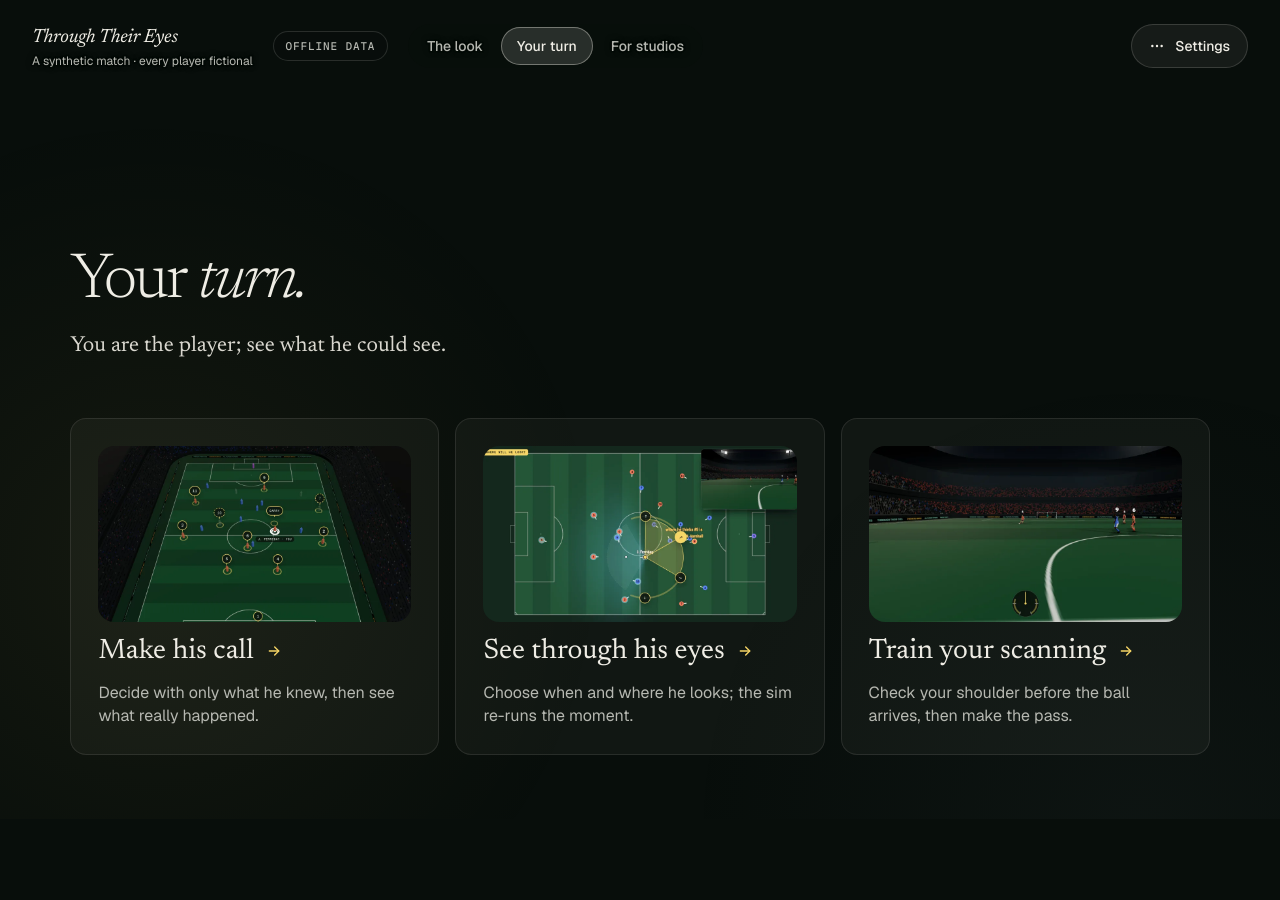
Test: Your call: opening › in App it takes the page's place and hides the moment until closed, back on Your turn
The image size is (1280, 900).
Expected: the element with class "door-turn" is shown, [70, 252, 1210, 755]
Step 1. Click the button with id "turn-call" → [255, 586], box [70, 418, 440, 755]
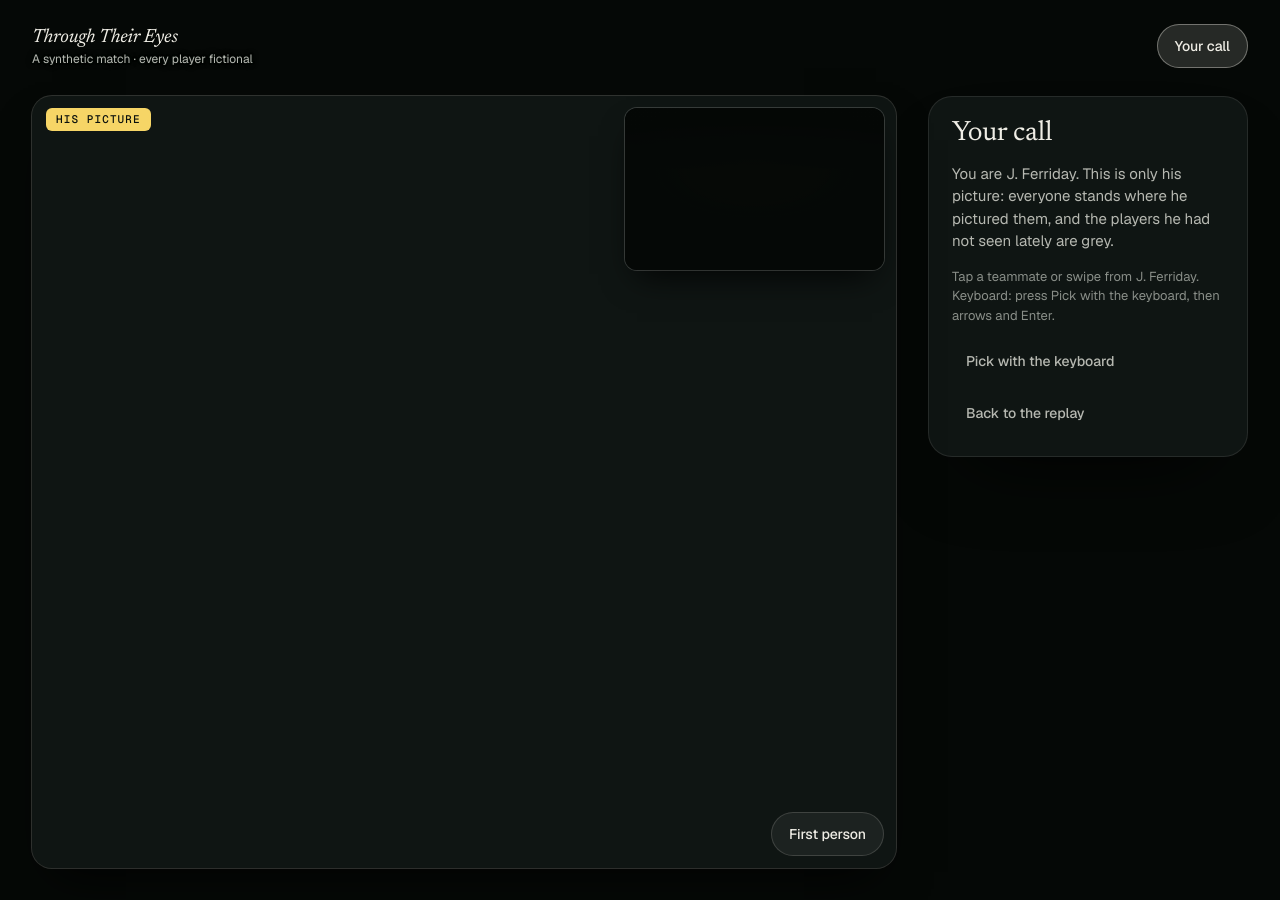
Now the element with class "door-turn" is gone
Now the button with class "moment" is gone
Now the element with class "yc-card" is shown, box [928, 96, 1248, 457]
Step 2. Click the button "Back to the replay" → [1025, 413], box [952, 391, 1098, 435]
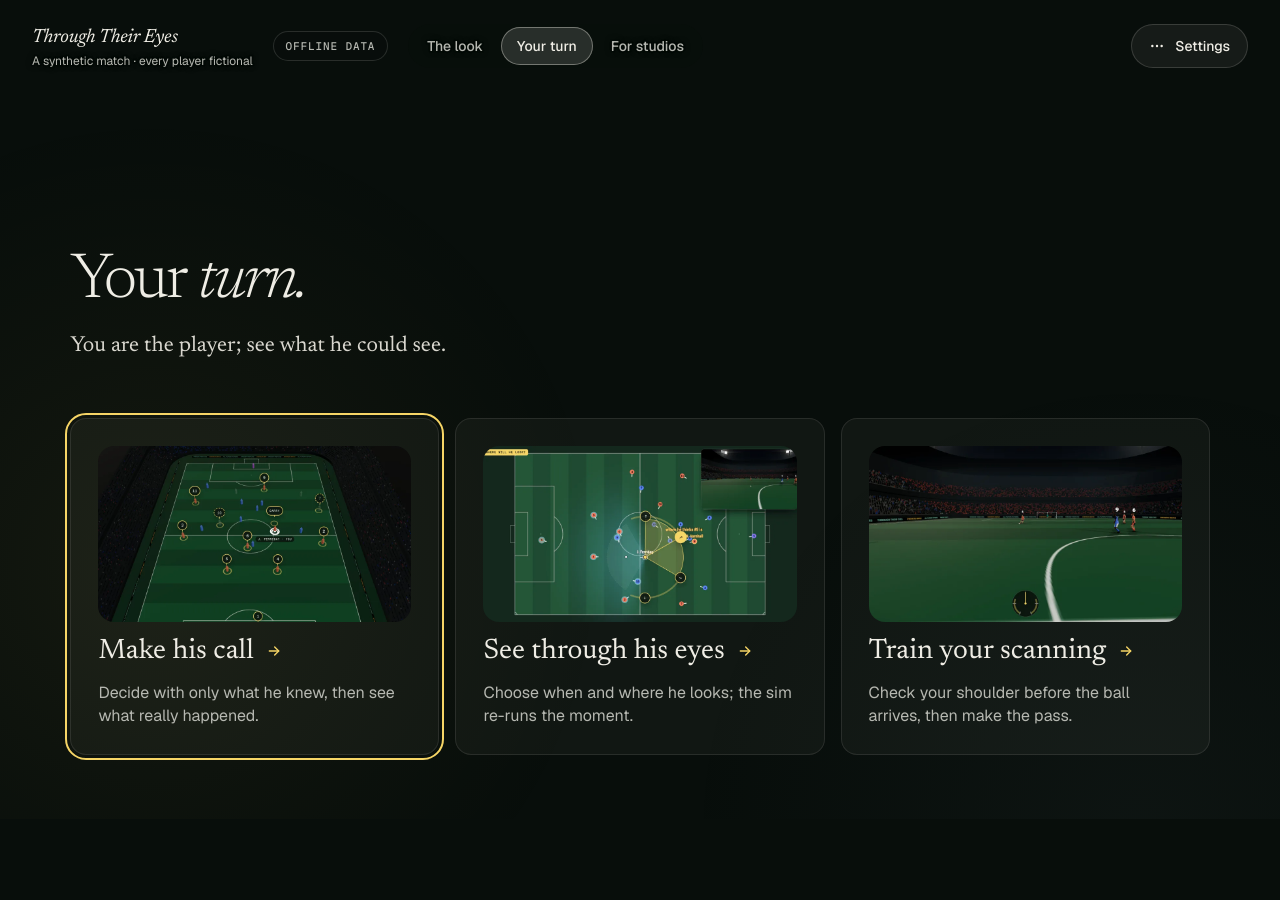
Now the element with class "door-turn" is shown, box [70, 252, 1210, 755]
Now the button with id "your-call-open" is gone
